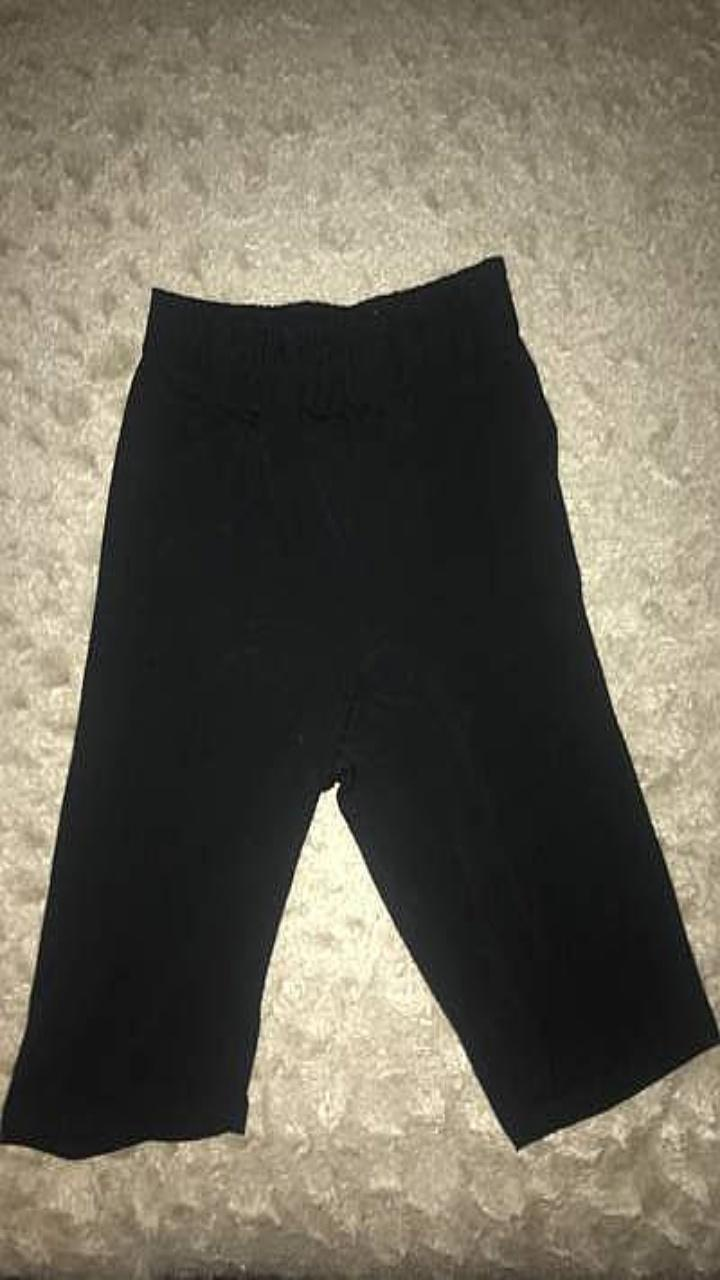Shorts: (0, 256, 719, 1157)
